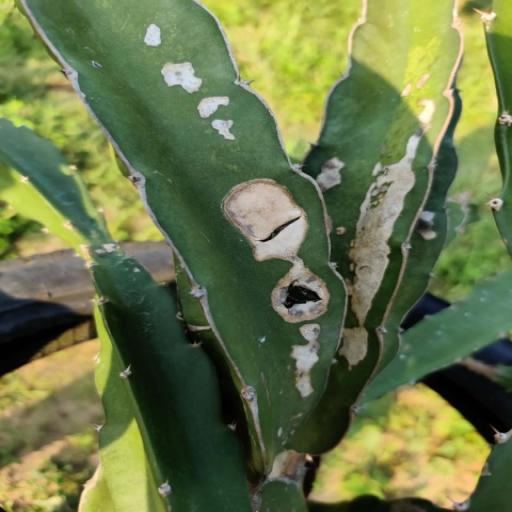stemcanker: (194, 95, 230, 121), (144, 20, 167, 53), (212, 116, 240, 140), (273, 422, 294, 442), (328, 220, 348, 238), (126, 264, 146, 278), (398, 84, 417, 98), (390, 350, 412, 362), (257, 332, 272, 348), (338, 276, 358, 288), (416, 73, 430, 90), (345, 260, 363, 271), (477, 296, 497, 305), (275, 388, 288, 400), (461, 310, 474, 319), (434, 330, 449, 337)
